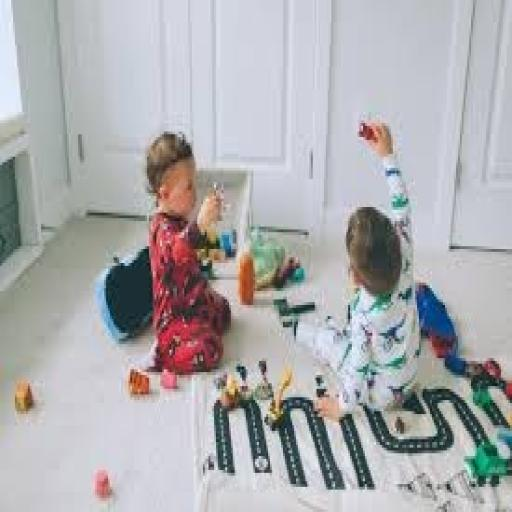baby: (297, 124, 420, 419), (148, 132, 230, 372)
